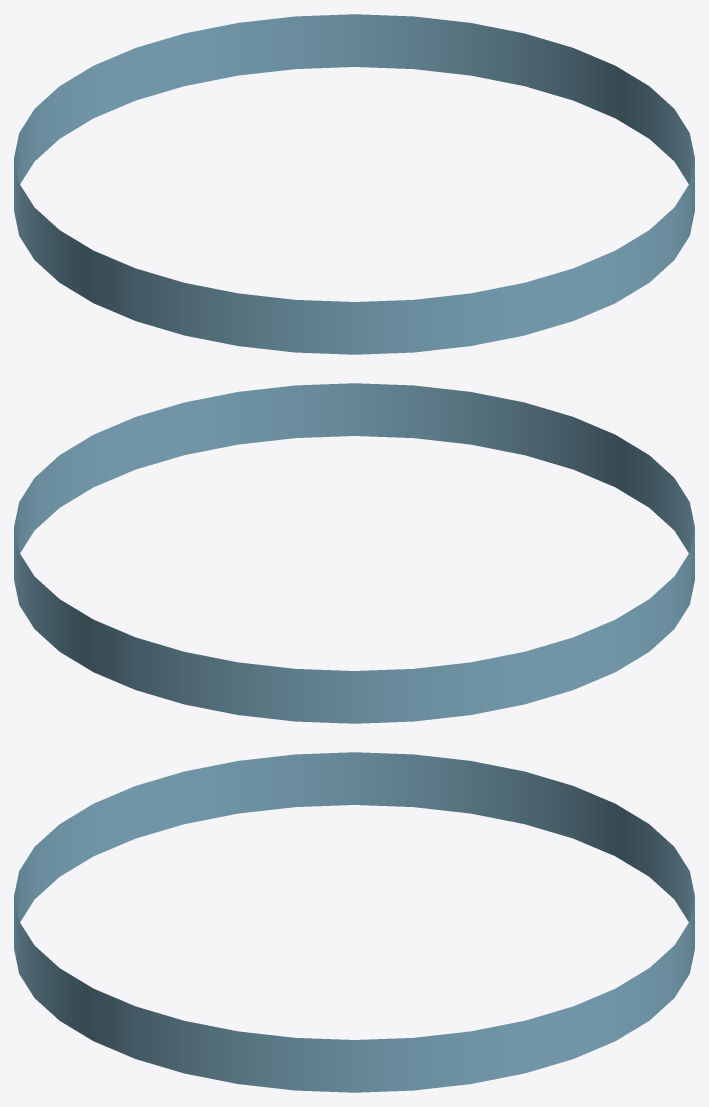
File: Ring_Turn_01.FBX
The picture shows the model from 3 angles, top to bottom: view 1: azimuth 30°, elevation 25°; view 2: azimuth 150°, elevation 25°; view 3: azimuth 270°, elevation 25°; orthographic projection.
Visible parts, largest first — view 1: Ring_Turn_01; view 2: Ring_Turn_01; view 3: Ring_Turn_01.
Boxes of the visible parts, x1=… form: Ring_Turn_01: x1=14, y1=14, x2=694, y2=354; Ring_Turn_01: x1=14, y1=383, x2=694, y2=723; Ring_Turn_01: x1=14, y1=752, x2=694, y2=1092.
Bounding box in the file's own units: 5.85 × 0.5 × 5.85.
